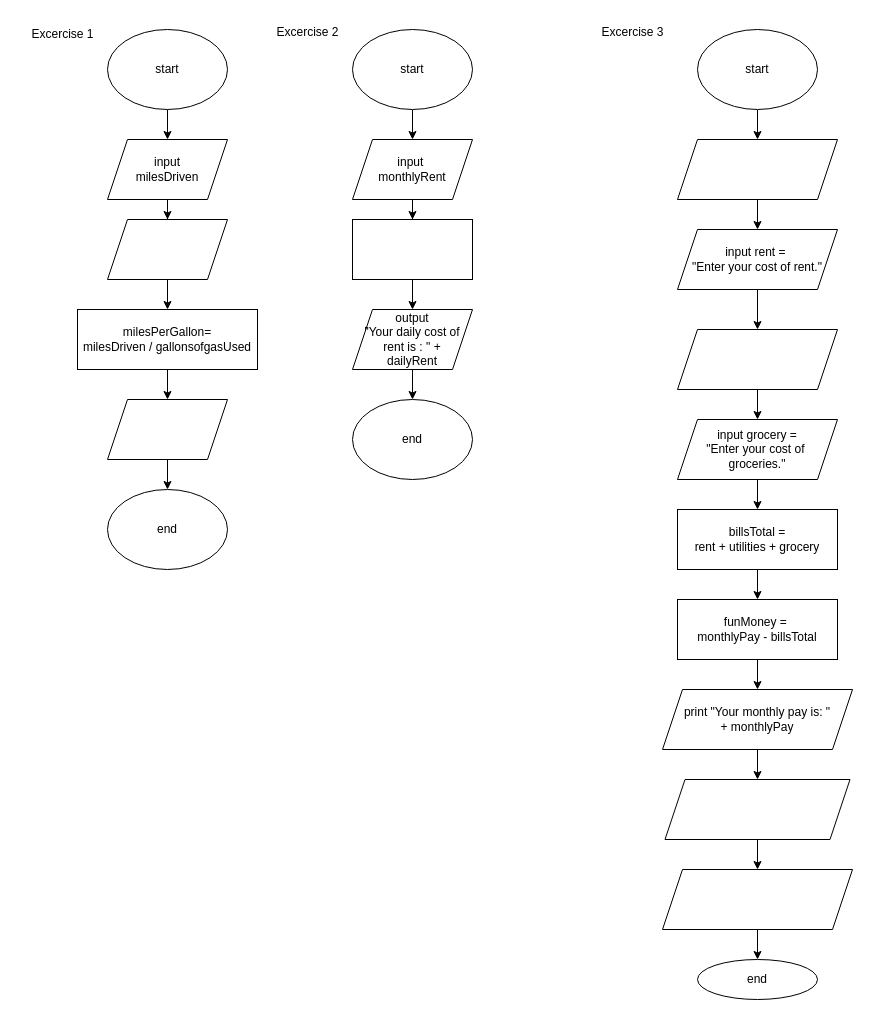
Image size: 870x1017. Some labels were removed from this diagram. The shapes that lost their labels are listed below. From the top down, each one's centre as x and y in pixels, then its label:
point 757,169: input monthlyPay= "Enter your monthly rent."
point 167,249: input gallonsofgasUsed
point 412,249: dailyRent = monthlyRent / 30
point 757,359: input utilities = "Enter your cost of utilities."
point 167,429: output "Your MPG is : " + milesPerGallon
point 757,809: print "Your total amount of bills is : " + billsTotal
point 757,899: print "Your remaining discretionary money is :" + funMoney
